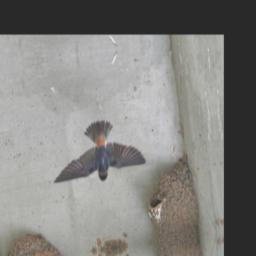Swallow: (46, 113, 148, 191)
